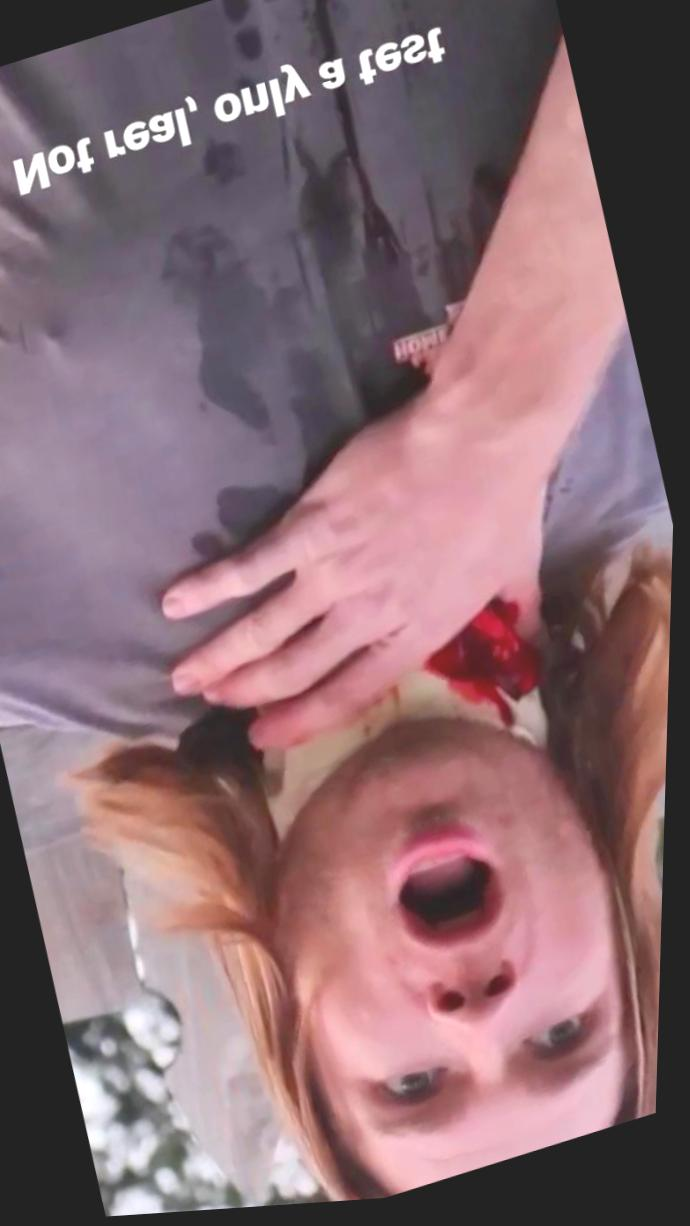Fire: (429, 605, 543, 733), (369, 678, 420, 742)
